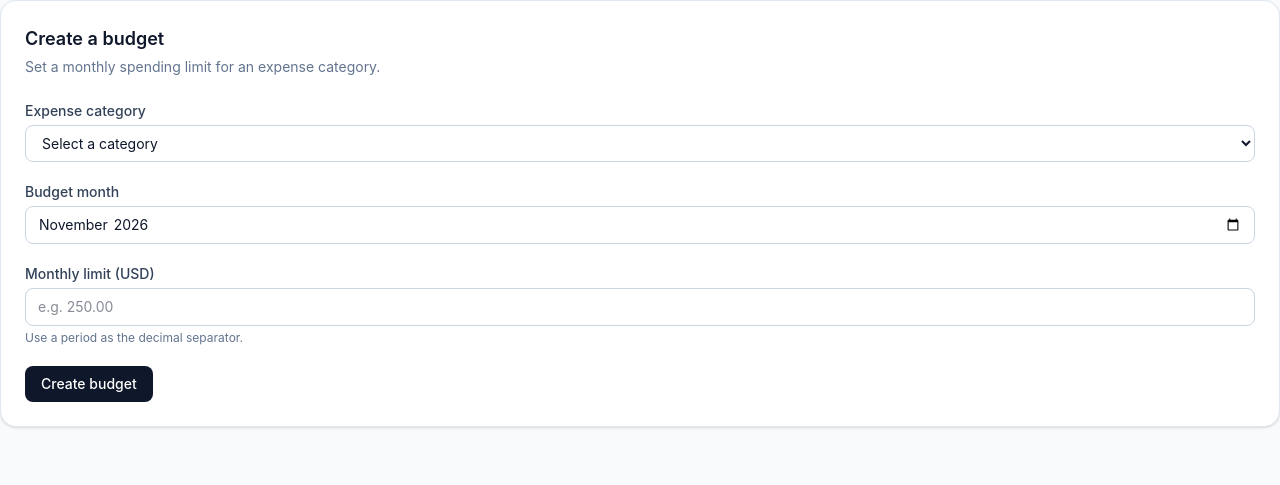
Test case: BudgetForm › creates a budget with the selected category, month, and amount
Select "Groceries" in the dropdown labelled "Expense category" at (640, 144), box [25, 125, 1255, 162]
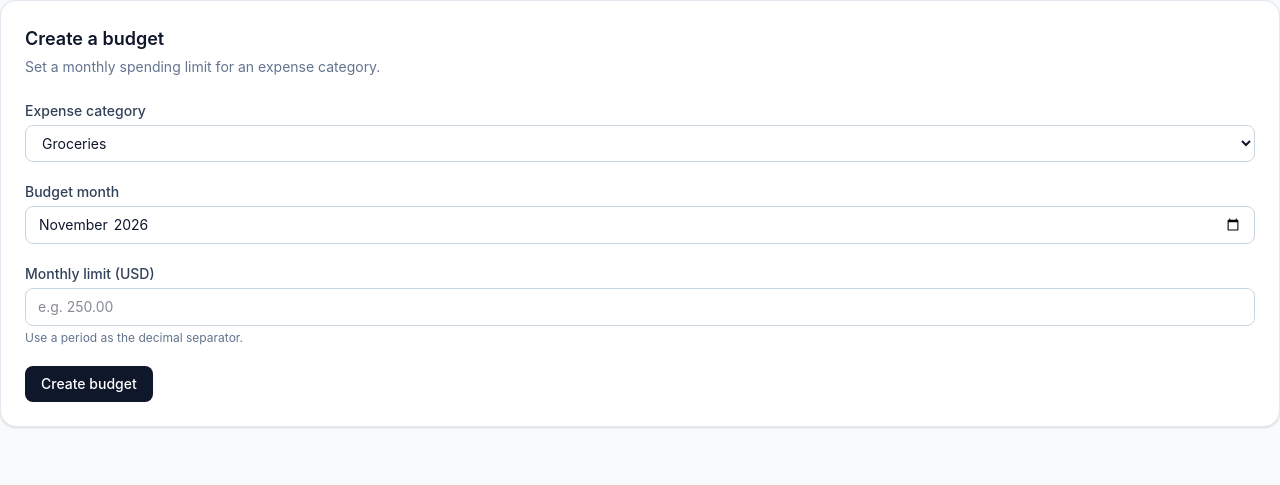
Type "250.00" into the field labelled "Monthly limit (USD)".
click(640, 307); type("250.00")  # box [25, 288, 1255, 326]
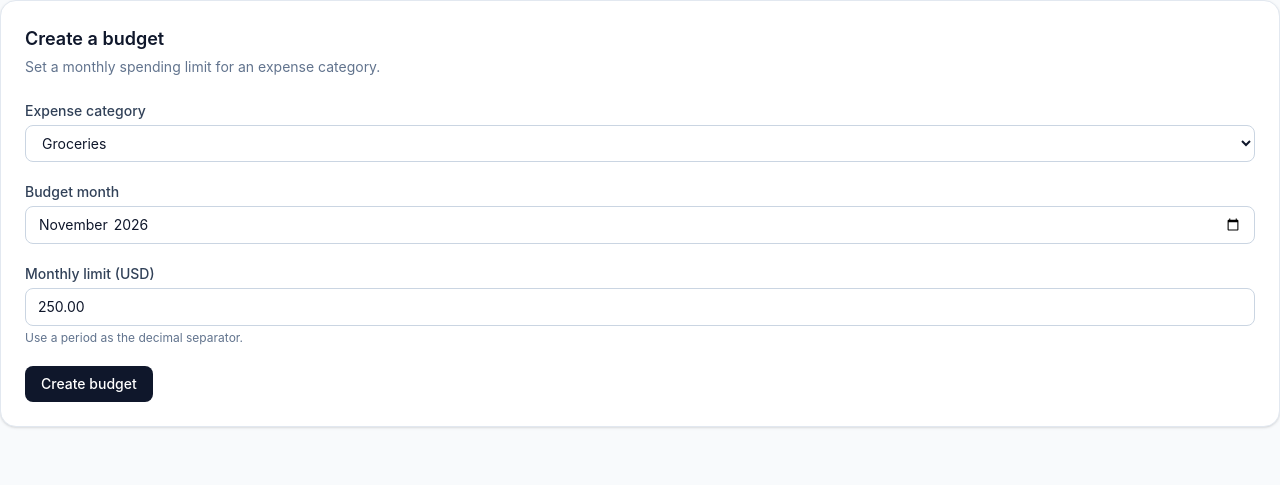
Click the button "Create budget".
click(89, 384)  # box [25, 366, 153, 402]
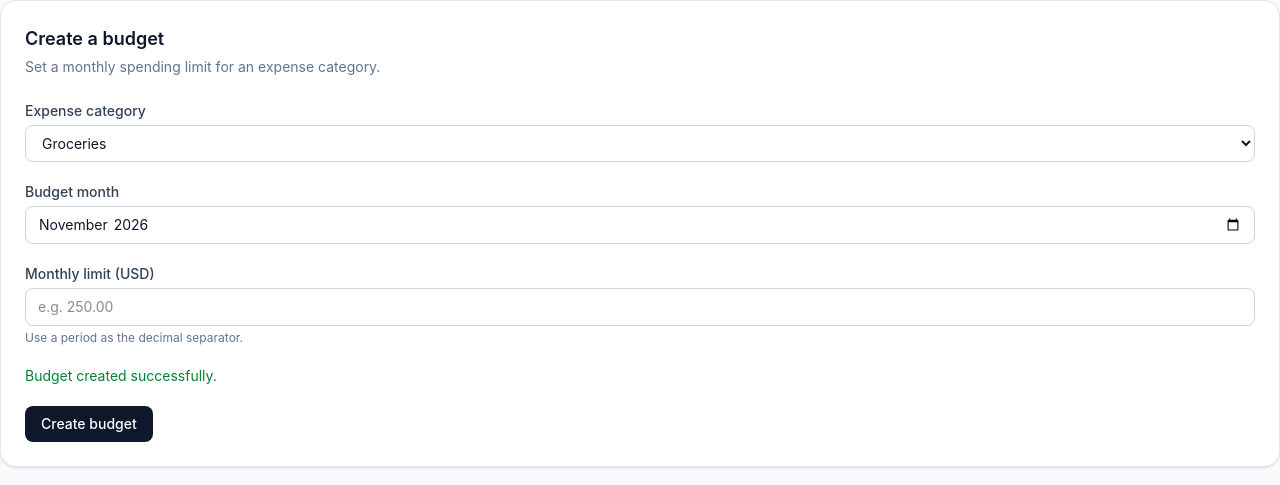
Check: the message reads "Budget created successfully.", box [25, 367, 217, 384]
Check: the field labelled "Monthly limit (USD)" is empty, box [25, 288, 1255, 326]
